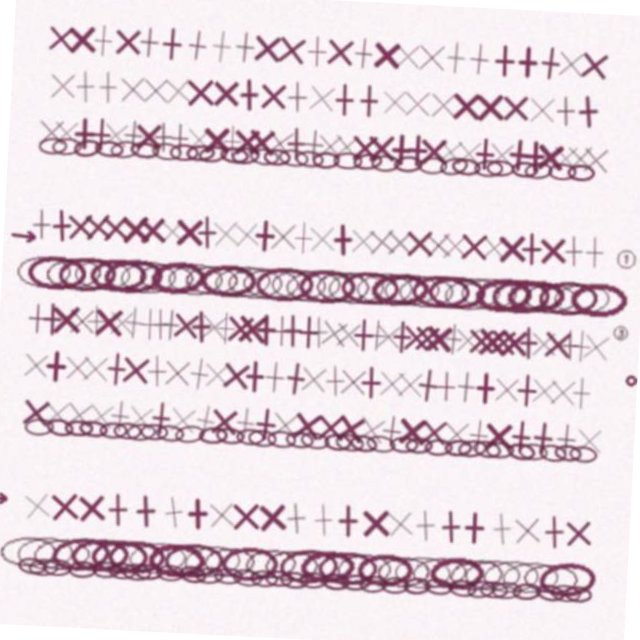chain: (62, 546, 125, 587), (458, 546, 519, 587), (550, 546, 611, 587), (440, 266, 502, 306), (210, 266, 271, 306), (194, 547, 255, 587), (100, 266, 162, 305), (493, 547, 555, 586), (281, 266, 341, 306), (82, 547, 143, 586), (139, 547, 200, 586), (422, 547, 483, 586), (41, 266, 101, 305), (27, 547, 87, 586), (291, 547, 351, 586), (55, 267, 116, 305), (116, 267, 177, 305), (550, 267, 611, 305), (43, 548, 104, 586), (147, 266, 206, 305), (472, 266, 531, 305), (254, 547, 313, 586), (311, 547, 370, 586), (536, 267, 598, 304), (324, 267, 384, 305), (368, 267, 428, 305), (489, 267, 549, 305), (504, 267, 564, 305), (513, 548, 573, 586), (380, 267, 441, 304), (176, 548, 237, 585), (475, 548, 536, 585), (387, 548, 446, 586), (10, 548, 70, 585), (347, 548, 407, 585), (213, 548, 271, 586), (353, 267, 412, 304), (274, 548, 333, 585), (253, 268, 313, 304), (330, 549, 390, 585), (441, 548, 499, 585), (87, 268, 146, 304), (224, 268, 283, 304), (233, 549, 292, 585), (181, 268, 239, 304), (198, 268, 256, 304), (296, 268, 354, 304), (395, 268, 453, 304), (369, 549, 427, 585), (458, 268, 517, 303), (13, 268, 71, 303), (164, 268, 222, 303), (568, 268, 626, 303), (25, 269, 84, 303), (239, 269, 298, 303), (339, 269, 398, 303), (426, 269, 485, 303), (312, 268, 369, 303), (103, 549, 160, 584), (120, 549, 177, 584), (71, 269, 129, 303), (135, 269, 193, 303), (410, 269, 468, 303), (406, 550, 464, 584), (534, 550, 592, 584), (268, 269, 325, 303), (521, 269, 578, 303), (160, 550, 217, 584), (430, 148, 462, 171), (479, 569, 511, 592), (189, 149, 220, 171), (180, 430, 212, 451), (64, 149, 94, 171), (101, 149, 132, 170), (222, 149, 253, 170), (344, 149, 375, 170), (463, 430, 494, 451), (478, 430, 509, 451), (51, 430, 81, 451), (191, 570, 221, 591), (245, 571, 276, 591), (548, 571, 579, 591), (132, 431, 162, 451), (306, 431, 336, 451), (341, 431, 371, 451), (355, 431, 385, 451), (372, 431, 402, 451), (544, 431, 574, 451), (372, 571, 402, 591), (43, 150, 74, 169), (143, 150, 174, 169), (270, 150, 301, 169), (505, 571, 536, 590), (564, 571, 595, 590), (516, 150, 545, 170), (513, 431, 542, 451), (121, 150, 151, 169), (177, 150, 207, 169), (443, 150, 473, 169), (84, 431, 114, 450), (204, 431, 234, 450), (221, 431, 251, 450), (30, 571, 60, 590), (105, 571, 135, 590), (208, 571, 238, 590), (354, 571, 384, 590), (437, 571, 467, 590), (461, 571, 491, 590), (525, 571, 555, 590), (41, 572, 72, 590), (411, 431, 440, 450), (450, 431, 479, 450), (560, 431, 589, 450), (416, 571, 445, 590), (211, 151, 241, 169), (241, 151, 271, 169), (385, 151, 415, 169), (30, 432, 60, 450), (161, 432, 191, 450), (430, 432, 460, 450), (30, 151, 59, 169), (86, 151, 115, 169), (287, 151, 316, 169), (363, 151, 392, 169), (410, 151, 439, 169), (466, 151, 495, 169), (105, 432, 134, 450), (254, 432, 283, 450), (273, 432, 302, 450), (291, 432, 320, 450), (492, 432, 521, 450), (525, 432, 554, 450), (575, 432, 604, 450), (81, 572, 110, 590), (135, 572, 164, 590), (293, 572, 322, 590), (394, 572, 423, 590), (304, 151, 332, 169), (330, 432, 358, 450), (263, 572, 291, 590), (578, 572, 606, 590), (161, 151, 190, 168), (325, 151, 354, 168), (478, 151, 507, 168), (540, 151, 569, 168), (70, 432, 99, 449), (119, 432, 148, 449), (242, 432, 271, 449), (396, 432, 425, 449), (56, 572, 85, 589), (147, 572, 176, 589), (169, 572, 198, 589), (227, 572, 256, 589), (278, 572, 307, 589), (312, 572, 341, 589), (493, 572, 522, 589), (255, 151, 283, 168), (503, 151, 531, 168), (559, 151, 587, 168), (146, 432, 174, 449), (121, 572, 149, 589), (335, 572, 363, 589)
noise: (611, 232, 635, 256), (611, 308, 631, 328), (6, 245, 34, 258), (626, 357, 640, 372), (0, 509, 19, 520)
single: (164, 500, 203, 539), (192, 408, 230, 446), (337, 408, 375, 446), (358, 408, 396, 446), (28, 501, 66, 539), (148, 80, 185, 117), (559, 80, 596, 117), (252, 127, 289, 164), (75, 220, 112, 257), (203, 220, 240, 257), (224, 220, 261, 257), (359, 220, 396, 257), (316, 314, 353, 351), (294, 408, 331, 445), (56, 501, 93, 538), (83, 501, 120, 538), (213, 501, 250, 538), (264, 501, 301, 538), (288, 501, 325, 538), (315, 501, 352, 538), (392, 501, 429, 538), (494, 501, 531, 538), (519, 501, 556, 538), (50, 34, 86, 70), (165, 34, 201, 70), (190, 34, 226, 70), (260, 34, 296, 70), (519, 34, 555, 70), (563, 34, 599, 70), (56, 81, 92, 117), (103, 81, 139, 117), (171, 81, 207, 117), (220, 81, 256, 117), (461, 81, 497, 117), (537, 81, 573, 117), (39, 221, 75, 257), (58, 221, 94, 257), (93, 221, 129, 257), (113, 221, 149, 257), (130, 221, 166, 257), (150, 221, 186, 257), (300, 221, 336, 257), (321, 221, 357, 257), (416, 221, 452, 257), (490, 221, 526, 257), (531, 221, 567, 257), (184, 315, 220, 351), (579, 315, 615, 351), (184, 362, 220, 398), (221, 362, 257, 398), (281, 362, 317, 398), (320, 362, 356, 398), (413, 362, 449, 398), (23, 409, 59, 445), (66, 409, 102, 445), (88, 409, 124, 445), (128, 409, 164, 445), (170, 409, 206, 445), (233, 409, 269, 445), (253, 409, 289, 445), (379, 409, 415, 445), (466, 409, 502, 445), (531, 409, 567, 445), (110, 502, 146, 538), (138, 502, 174, 538), (190, 502, 226, 538), (238, 502, 274, 538), (368, 502, 404, 538), (418, 502, 454, 538), (443, 502, 479, 538), (547, 502, 583, 538), (571, 502, 607, 538), (118, 34, 153, 69), (214, 34, 249, 69), (236, 34, 271, 69), (309, 34, 344, 69), (332, 34, 367, 69), (425, 34, 460, 69), (448, 34, 483, 69), (540, 34, 575, 69), (79, 81, 114, 116), (197, 81, 232, 116), (268, 81, 303, 116), (293, 81, 328, 116), (366, 81, 401, 116), (487, 81, 522, 116), (89, 128, 124, 163), (107, 128, 142, 163), (122, 128, 157, 163), (137, 128, 172, 163), (190, 128, 225, 163), (235, 128, 270, 163), (270, 128, 305, 163), (288, 128, 323, 163), (320, 128, 355, 163), (355, 128, 390, 163), (424, 128, 459, 163), (493, 128, 528, 163), (524, 128, 559, 163), (554, 128, 589, 163), (19, 221, 54, 256), (185, 221, 220, 256), (261, 221, 296, 256), (378, 221, 413, 256), (398, 221, 433, 256), (510, 221, 545, 256), (552, 221, 587, 256), (573, 221, 608, 256), (49, 315, 84, 350), (79, 315, 114, 350), (117, 315, 152, 350), (143, 315, 178, 350), (154, 315, 189, 350), (169, 315, 204, 350), (197, 315, 232, 350), (235, 315, 270, 350), (276, 315, 311, 350), (302, 315, 337, 350), (360, 315, 395, 350), (422, 315, 457, 350), (437, 315, 472, 350), (451, 315, 486, 350), (512, 315, 547, 350), (527, 315, 562, 350), (541, 315, 576, 350), (553, 315, 588, 350), (21, 362, 56, 397), (102, 362, 137, 397), (121, 362, 156, 397), (142, 362, 177, 397), (260, 362, 295, 397), (299, 362, 334, 397), (452, 362, 487, 397), (530, 362, 565, 397), (108, 409, 143, 444), (149, 409, 184, 444), (212, 409, 247, 444), (273, 409, 308, 444), (400, 409, 435, 444), (422, 409, 457, 444), (509, 409, 544, 444), (554, 409, 589, 444), (341, 502, 376, 537), (30, 35, 64, 69), (72, 35, 106, 69), (97, 35, 131, 69), (141, 35, 175, 69), (286, 35, 320, 69), (356, 35, 390, 69), (377, 35, 411, 69), (401, 35, 435, 69), (474, 35, 508, 69), (497, 35, 531, 69), (34, 82, 68, 116), (127, 82, 161, 116), (245, 82, 279, 116), (316, 82, 350, 116), (341, 82, 375, 116), (389, 82, 423, 116), (415, 82, 449, 116), (438, 82, 472, 116), (514, 82, 548, 116), (25, 129, 59, 163), (40, 129, 74, 163), (58, 129, 92, 163), (75, 129, 109, 163), (154, 129, 188, 163), (173, 129, 207, 163), (206, 129, 240, 163), (221, 129, 255, 163), (304, 129, 338, 163), (339, 129, 373, 163), (375, 129, 409, 163), (392, 129, 426, 163), (408, 129, 442, 163), (443, 129, 477, 163), (459, 129, 493, 163), (476, 129, 510, 163), (510, 129, 544, 163), (540, 129, 574, 163), (570, 129, 604, 163), (168, 222, 202, 256), (244, 222, 278, 256), (282, 222, 316, 256), (342, 222, 376, 256), (434, 222, 468, 256), (453, 222, 487, 256), (473, 222, 507, 256), (21, 316, 55, 350), (36, 316, 70, 350), (65, 316, 99, 350), (92, 316, 126, 350), (105, 316, 139, 350), (133, 316, 167, 350), (209, 316, 243, 350), (224, 316, 258, 350), (250, 316, 284, 350), (265, 316, 299, 350), (292, 316, 326, 350), (332, 316, 366, 350), (347, 316, 381, 350), (372, 316, 406, 350), (386, 316, 420, 350), (400, 316, 434, 350), (411, 316, 445, 350), (465, 316, 499, 350), (476, 316, 510, 350), (487, 316, 521, 350), (498, 316, 532, 350), (565, 316, 599, 350), (42, 363, 76, 397), (63, 363, 97, 397), (81, 363, 115, 397), (163, 363, 197, 397), (203, 363, 237, 397), (241, 363, 275, 397), (339, 363, 373, 397), (357, 363, 391, 397), (378, 363, 412, 397), (396, 363, 430, 397), (432, 363, 466, 397), (472, 363, 506, 397), (493, 363, 527, 397), (513, 363, 547, 397), (549, 363, 583, 397), (568, 363, 602, 397), (45, 410, 79, 444), (319, 410, 353, 444), (445, 410, 479, 444), (487, 410, 521, 444), (578, 410, 612, 444), (468, 503, 502, 537)
